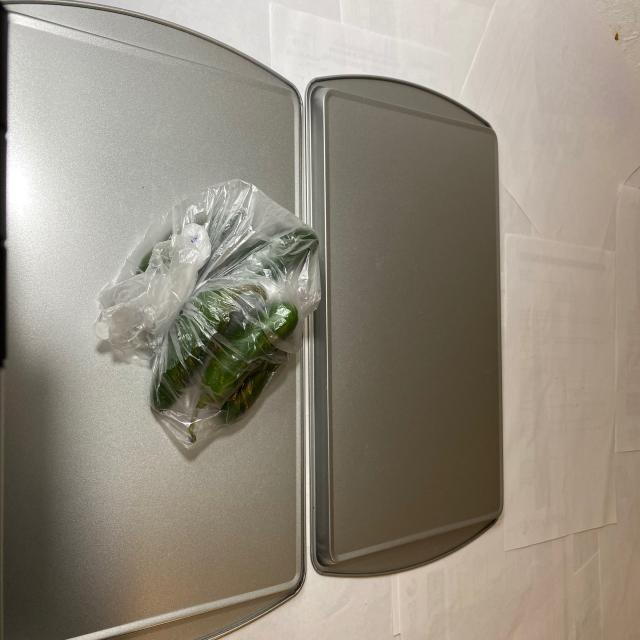chilli: (133, 184, 318, 452)
